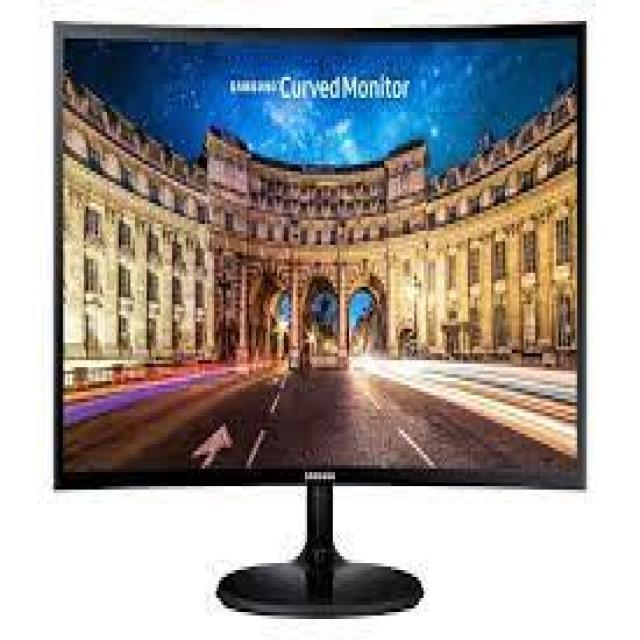monitor: (23, 17, 623, 635)
